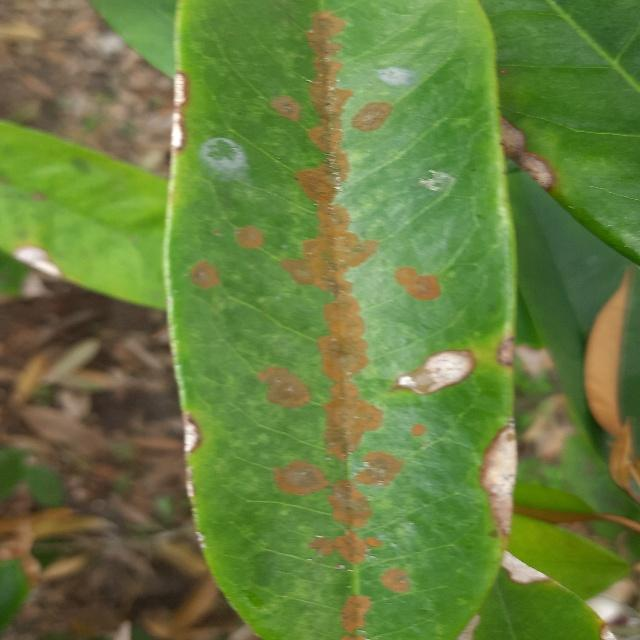Algal Leaf Spot: (159, 0, 523, 640)
